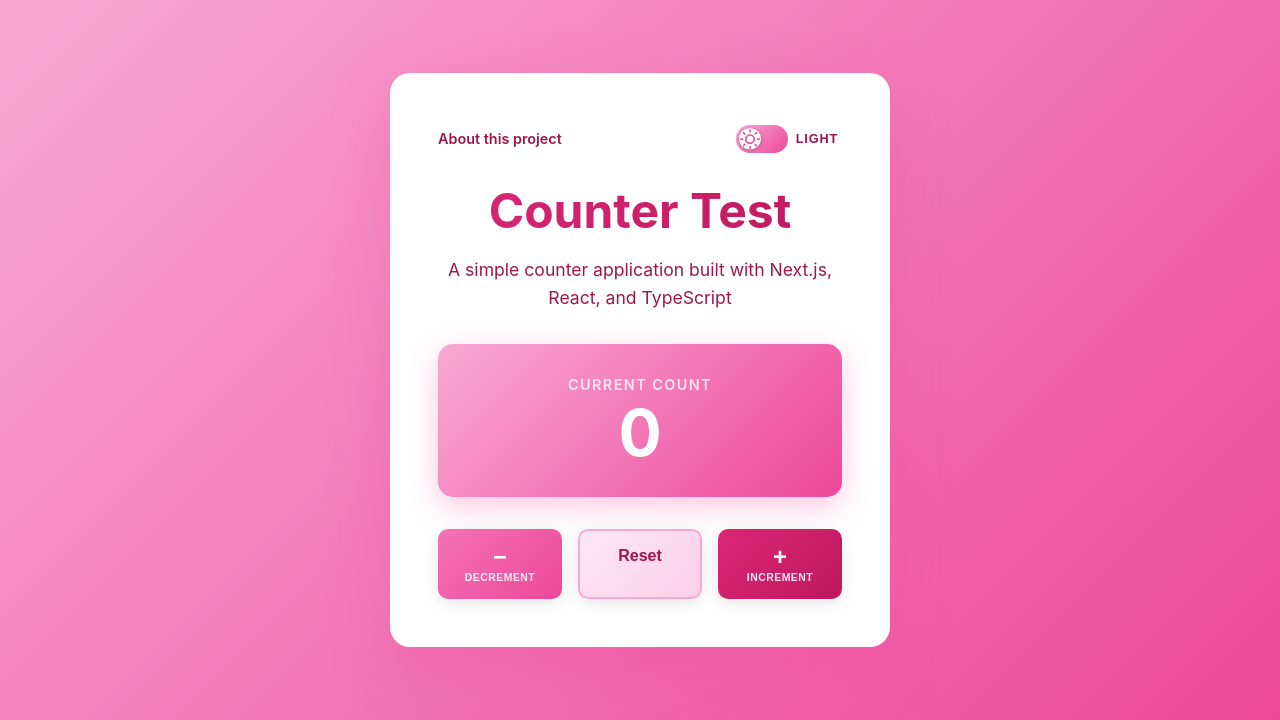
Scenario: Home page counter – increment › increments from 0 to 1 on the first click
Click the button with aria-label "increment counter" at coordinates (780, 564), box x1=718 y1=529 x2=842 y2=599
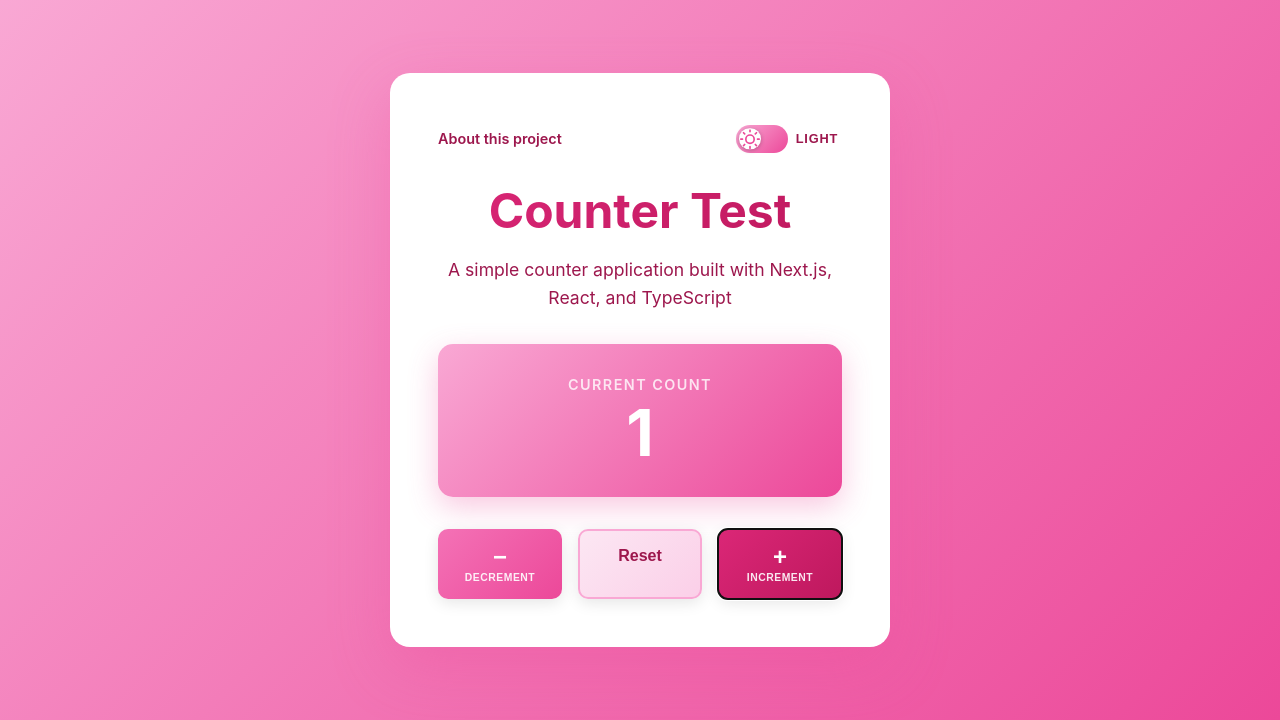
Result: the text "1" is shown at x1=626 y1=401 x2=654 y2=465
